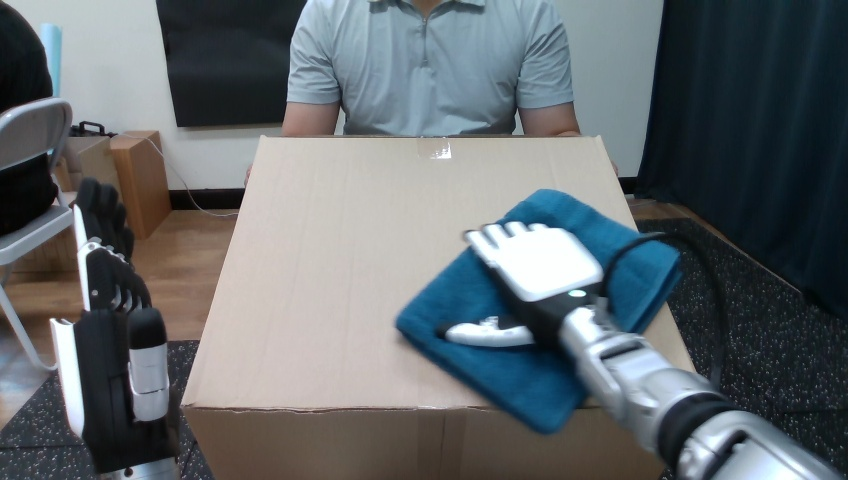left robot arm: (445, 221, 839, 478)
left robot hand: (443, 222, 837, 478)
right robot arm: (445, 221, 839, 478)
right robot hand: (560, 306, 835, 478)
